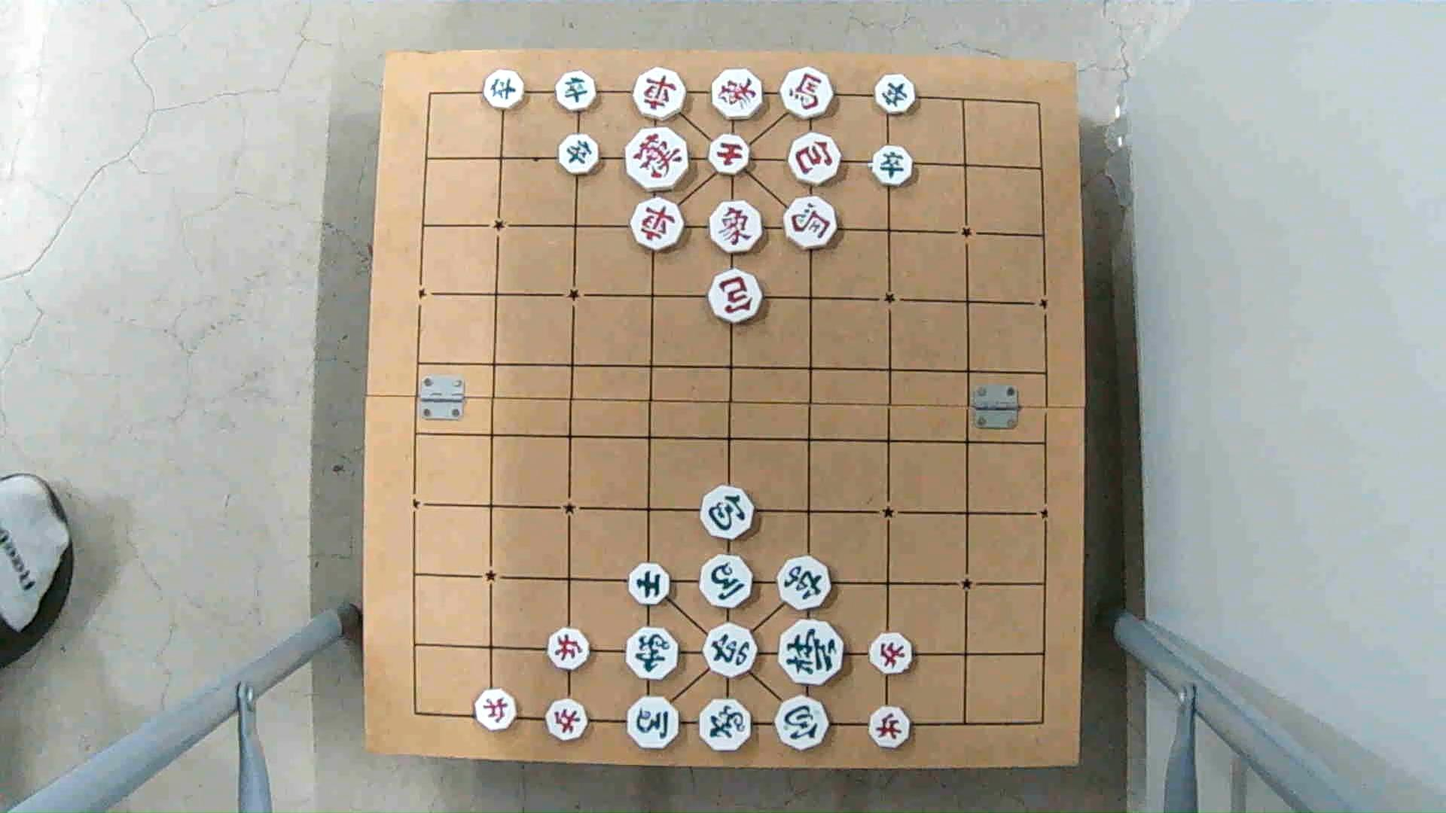cha_green: (702, 629, 758, 678), (776, 560, 831, 609)
cha_red: (633, 68, 686, 120), (630, 202, 685, 250)
jol_green: (871, 146, 916, 184), (874, 76, 919, 113), (557, 137, 599, 175), (482, 72, 523, 109), (555, 75, 597, 111)
jol_red: (547, 700, 590, 743), (868, 635, 915, 674), (868, 706, 913, 745), (548, 629, 593, 668), (475, 692, 520, 730)
ma_green: (626, 698, 682, 749), (700, 556, 756, 607)
ma_red: (786, 199, 843, 249), (781, 67, 833, 117)
po_green: (776, 699, 832, 748), (702, 491, 758, 540)
po_red: (707, 273, 764, 322), (790, 135, 844, 182)
sa_green: (627, 562, 673, 602)
sa_red: (707, 136, 752, 172)
sang_green: (700, 699, 751, 754), (627, 627, 679, 678)
sang_red: (711, 200, 764, 251), (709, 70, 764, 119)
wang_green: (780, 620, 843, 682)
wang_red: (626, 128, 691, 190)
